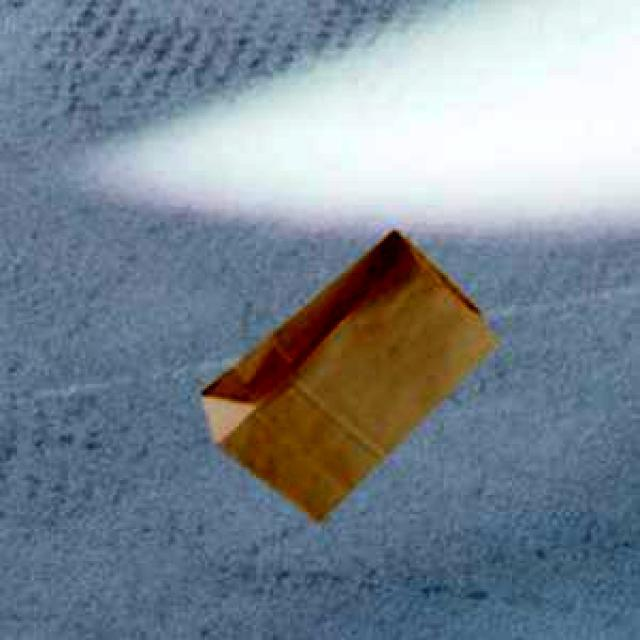Paper_Bag: (199, 230, 496, 520)
